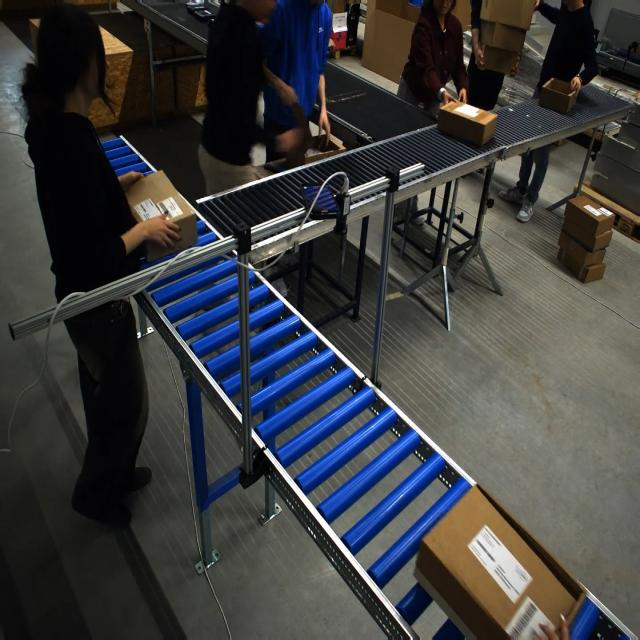box: (415, 483, 589, 639), (123, 169, 197, 261), (436, 99, 497, 147), (539, 78, 580, 116)
product: (192, 7, 214, 19), (186, 0, 205, 8)
